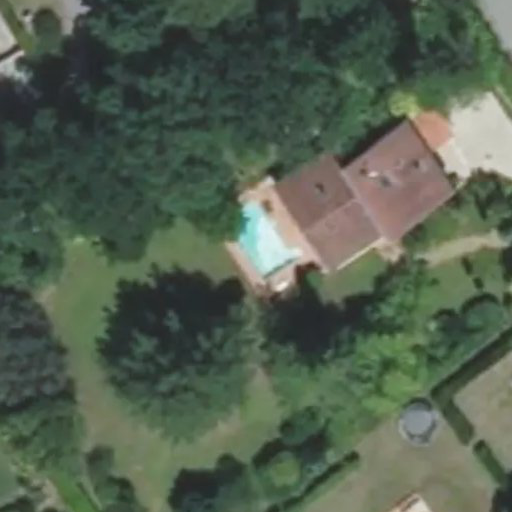pool: (221, 223, 291, 261)
